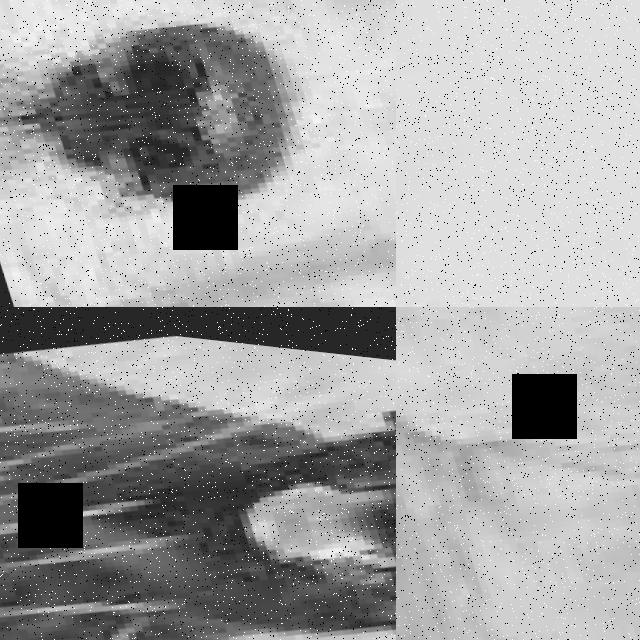dog: (0, 307, 396, 640), (0, 0, 396, 307), (396, 307, 640, 640), (396, 0, 640, 307)
